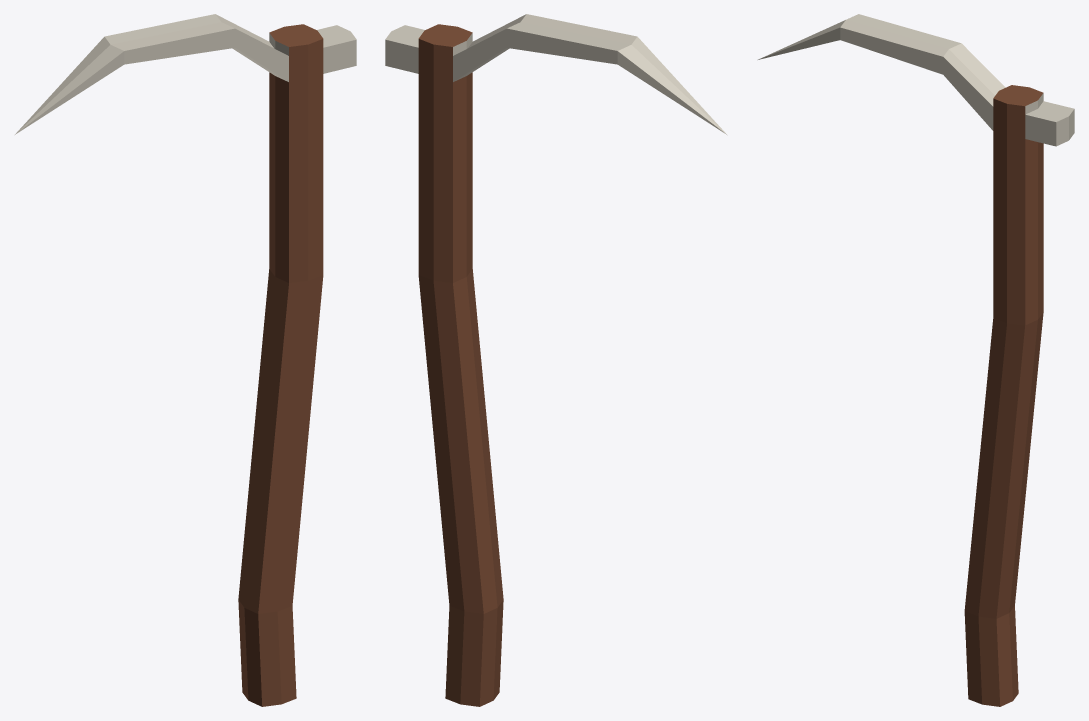
Rendered from scythe.fbx.
3 views of the same model, side by side, from view 1: azimuth 30°, elevation 25°; view 2: azimuth 150°, elevation 25°; view 3: azimuth 330°, elevation 25° (orthographic). The views are drawn at different scales.
Parts seen in each view (by area): view 1: Plane; view 2: Plane; view 3: Plane.
Part boxes in pixels (x1=…): Plane: x1=15, y1=14, x2=356, y2=706; Plane: x1=385, y1=14, x2=726, y2=706; Plane: x1=758, y1=14, x2=1074, y2=706.
Size of the model in its own units: 569 by 1114 by 71.15.
